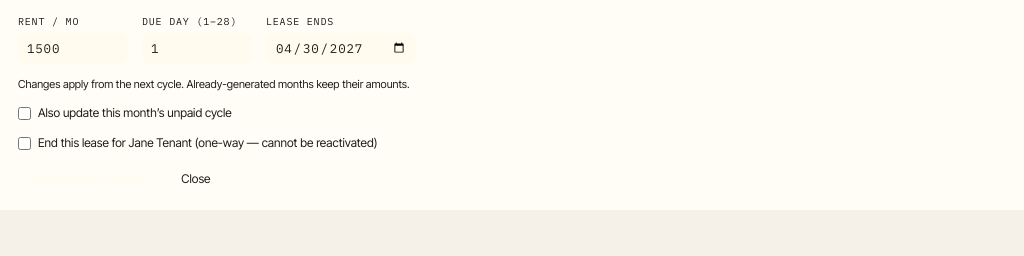
Test: LeaseTermsEditor › edit stage › should stay in edit and show an error when rent amount is invalid
Step 1. Replace the text in the number field with test id "lease-rent-amount" with "-10" → {"x": 73, "y": 48}, box [18,33,128,64]
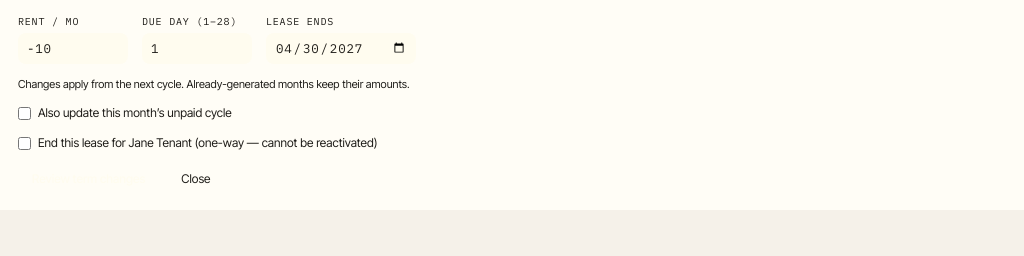
Step 2. Submit the form with test id "lease-terms-editor"
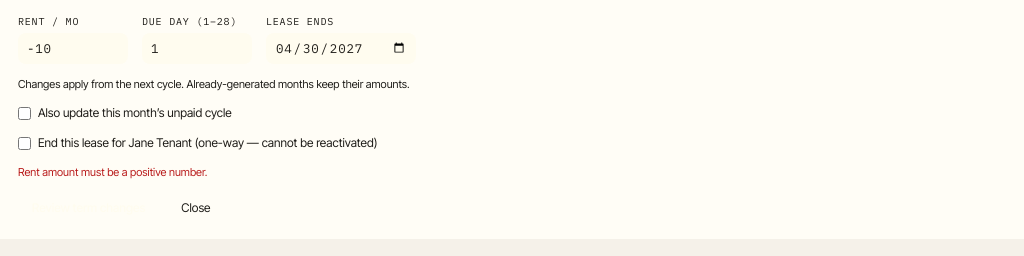
Result: the message with test id "lease-terms-notice" shows "positive number" at [18,165,208,179]
